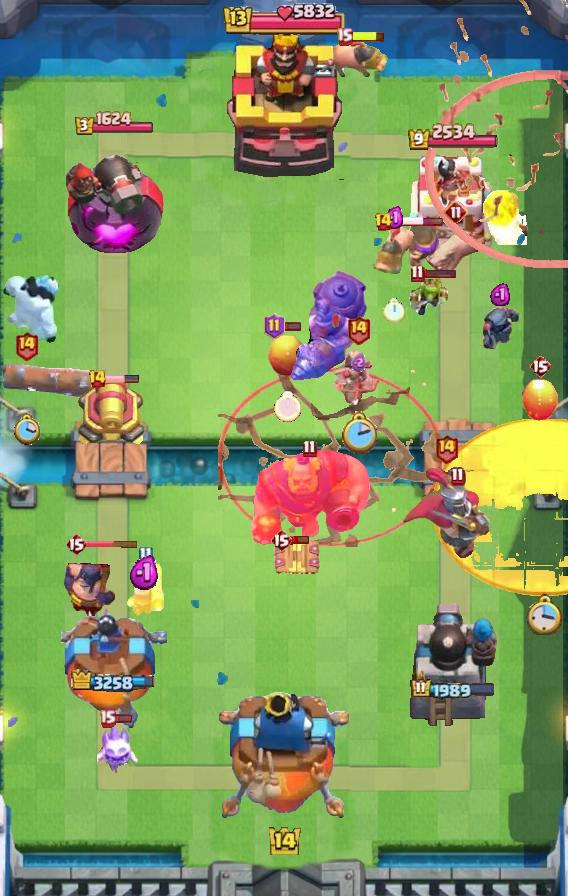battle-ram: (478, 305, 522, 353)
bomb-tower: (401, 213, 443, 275)
clock: (221, 0, 347, 40)
electro-spirit: (129, 555, 161, 591), (383, 206, 405, 230), (490, 282, 510, 306), (351, 353, 366, 371)
elixir: (340, 411, 377, 454), (526, 594, 563, 635), (13, 414, 40, 447), (274, 391, 301, 421), (383, 297, 405, 322)
emote: (390, 217, 444, 228), (85, 539, 139, 549), (350, 30, 386, 43), (422, 269, 458, 280), (104, 374, 140, 384), (290, 535, 310, 546), (114, 712, 134, 723), (283, 320, 302, 331)
executioner: (330, 36, 388, 80), (373, 226, 415, 276)
giant: (423, 227, 489, 281)
goblin-brawler: (271, 537, 321, 577)
guard: (218, 369, 442, 548)
hog: (268, 330, 306, 378), (520, 378, 560, 422)
king-tower: (224, 29, 344, 181), (219, 692, 349, 826)
lightning: (249, 448, 372, 548)
minion: (0, 362, 102, 398)
mirror: (97, 720, 141, 774)
monk: (62, 549, 118, 621)
phoenix-egg: (432, 419, 568, 596)
queen-tower: (61, 603, 167, 731), (407, 150, 499, 256)
rage: (0, 274, 64, 346)
royal-recruit: (76, 376, 148, 450)
selected: (407, 124, 499, 153), (71, 669, 157, 695), (73, 111, 154, 137), (410, 678, 496, 701)
skeleton-barrel: (424, 0, 568, 268)
skeleton-dragon: (332, 347, 384, 405)
text: (346, 315, 371, 346), (14, 331, 39, 362), (433, 433, 458, 463), (444, 200, 468, 224), (263, 313, 284, 339), (529, 354, 551, 378), (270, 528, 292, 552), (65, 532, 87, 556), (374, 212, 393, 232), (88, 369, 107, 389), (335, 27, 353, 46), (99, 708, 117, 727), (410, 265, 425, 284), (138, 547, 153, 566), (303, 439, 318, 457)
tombstone: (124, 560, 166, 618)
tower-bar: (408, 599, 498, 731), (64, 138, 164, 256)
valkyrie: (479, 189, 527, 245)
wall-breaker-evolution: (400, 466, 492, 560)
wizard: (288, 269, 370, 383)
zap: (407, 275, 449, 319)
